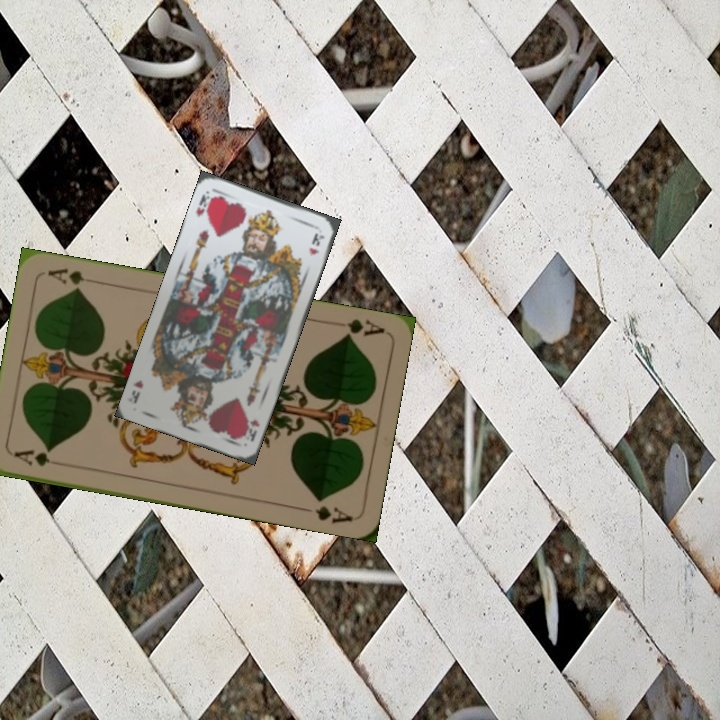GA: (10, 445, 68, 469), (338, 315, 387, 340)
HK: (192, 188, 217, 219), (238, 415, 262, 444)
